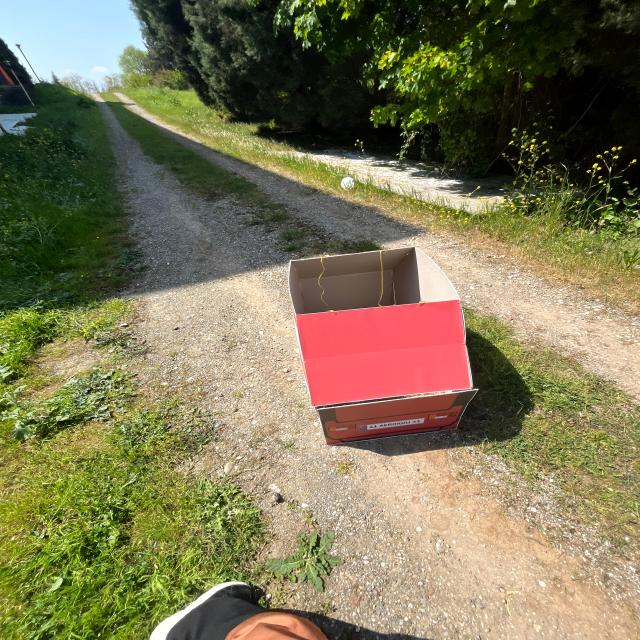red_car: (252, 231, 506, 478)
